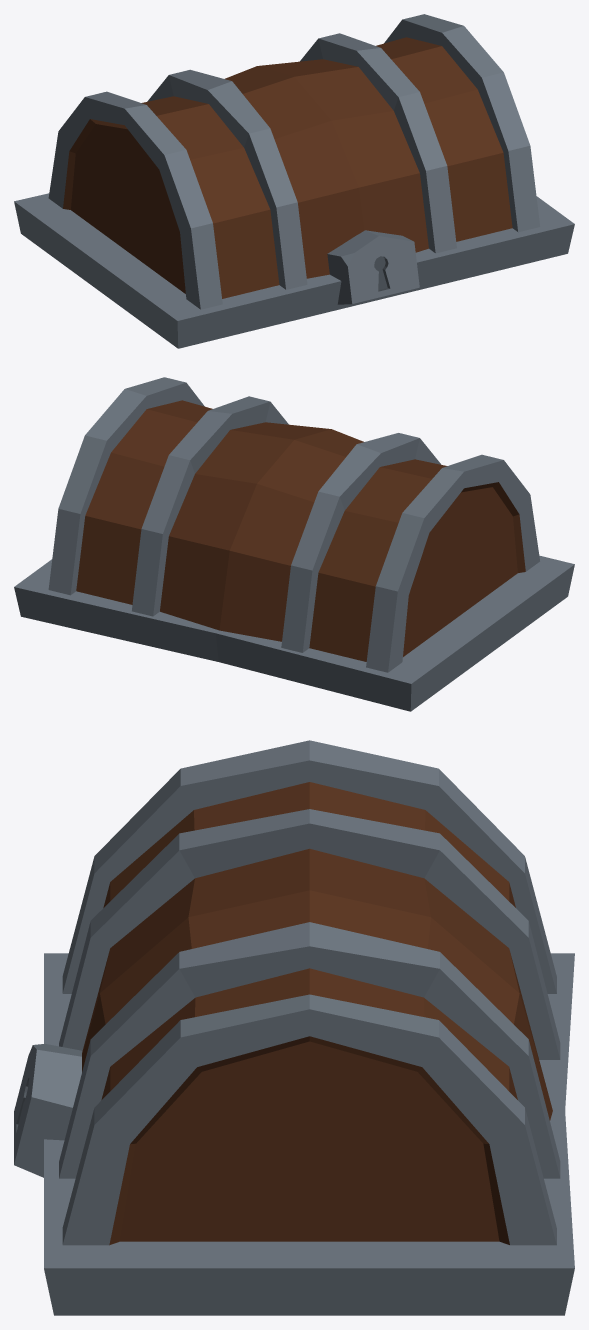
The model's file is chest-top.fbx.
The picture shows the model from 3 angles, top to bottom: view 1: azimuth 30°, elevation 25°; view 2: azimuth 150°, elevation 25°; view 3: azimuth 270°, elevation 25°; orthographic projection. The views are drawn at different scales.
Visible parts, largest first — view 1: chest-top; view 2: chest-top; view 3: chest-top.
Part boxes in pixels (x1=…): chest-top: x1=14, y1=14, x2=574, y2=348; chest-top: x1=14, y1=377, x2=574, y2=711; chest-top: x1=14, y1=740, x2=574, y2=1315.
Size of the model in its own units: 95.39 by 40.75 by 71.83.
